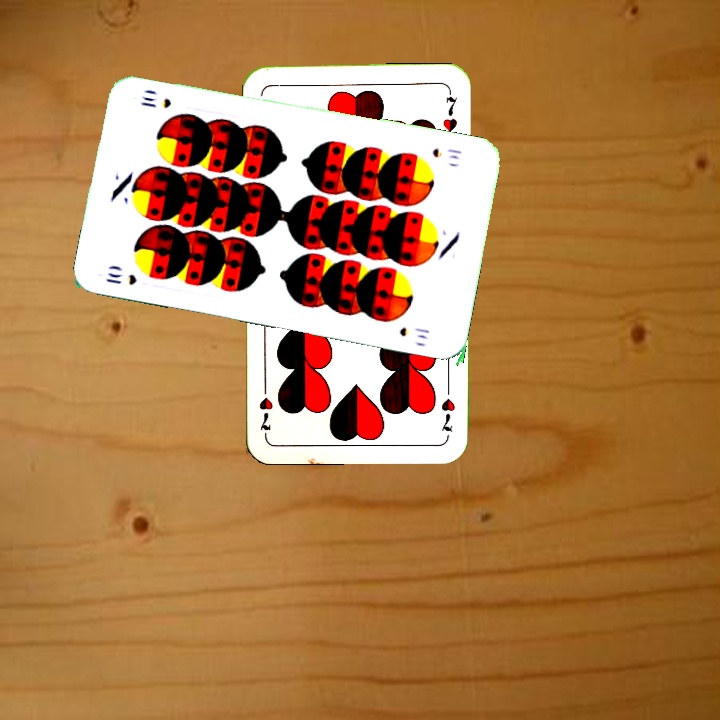H7: (437, 378, 458, 437)
S10: (101, 268, 139, 288), (428, 144, 465, 163)
